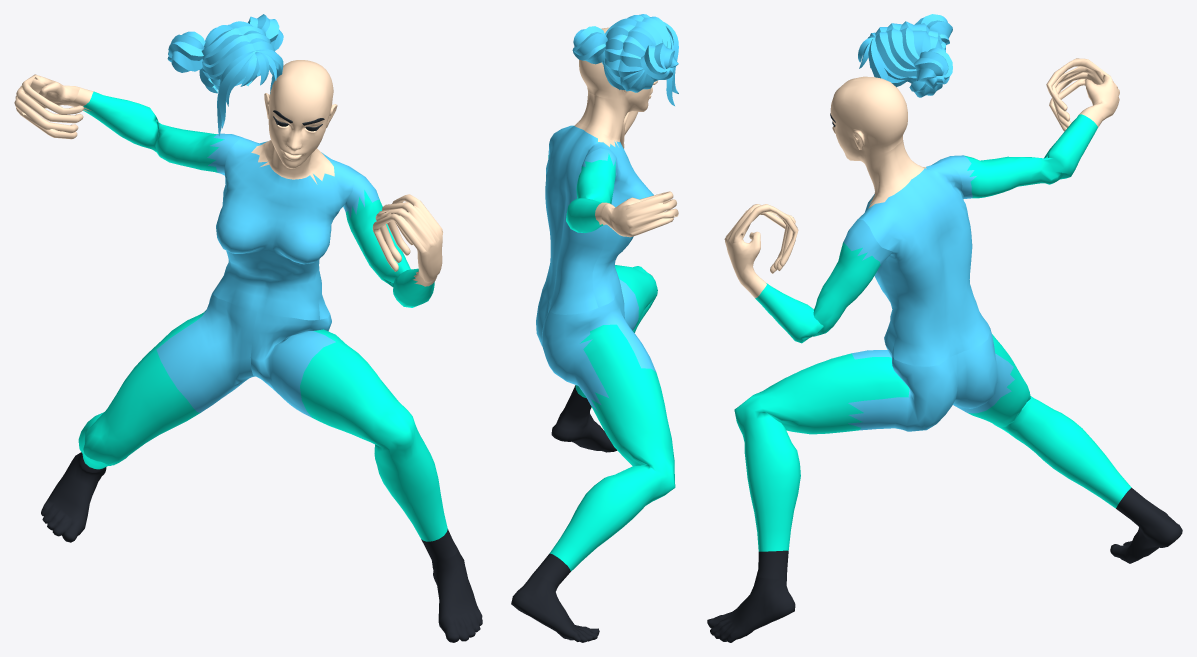
Rendered from fighter-mara-volt.glb.
3 renders of one model, left to right at view 1: azimuth 30°, elevation 25°; view 2: azimuth 150°, elevation 25°; view 3: azimuth 270°, elevation 25°, orthographic. The views are drawn at different scales.
Parts seen in each view (by area): view 1: Superhero_Female, fighterMaraVolt_Hair_Hair_Buns; view 2: Superhero_Female, fighterMaraVolt_Hair_Hair_Buns; view 3: Superhero_Female, fighterMaraVolt_Hair_Hair_Buns.
Part boxes in pixels (x1,y1,x2,y2): Superhero_Female: [14, 60, 482, 642]; fighterMaraVolt_Hair_Hair_Buns: [167, 14, 283, 136]; Superhero_Female: [511, 27, 678, 642]; fighterMaraVolt_Hair_Hair_Buns: [572, 14, 678, 105]; Superhero_Female: [707, 58, 1182, 642]; fighterMaraVolt_Hair_Hair_Buns: [858, 14, 952, 97].
Bounding box in the file's own units: 0.8278 × 1.6 × 1.23.
